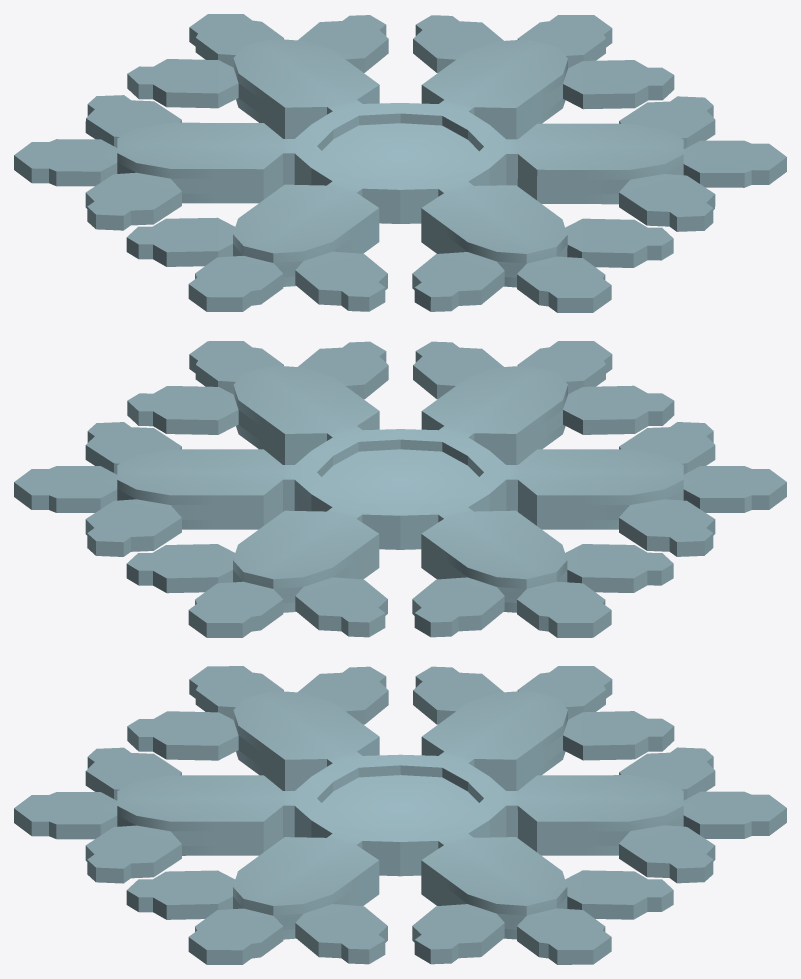
File: geology-crystals-snowflake_v6.glb
The picture shows the model from 3 angles, top to bottom: view 1: azimuth 30°, elevation 25°; view 2: azimuth 150°, elevation 25°; view 3: azimuth 270°, elevation 25°; orthographic projection.
Parts seen in each view (by area): view 1: Snowflake_v6; view 2: Snowflake_v6; view 3: Snowflake_v6.
Part boxes in pixels (left/top/right/bottom): Snowflake_v6: left=14, top=14, right=786, bottom=312; Snowflake_v6: left=14, top=341, right=786, bottom=637; Snowflake_v6: left=14, top=666, right=786, bottom=964.
Bounding box in the file's own units: 10.25 × 0.593 × 11.81.
